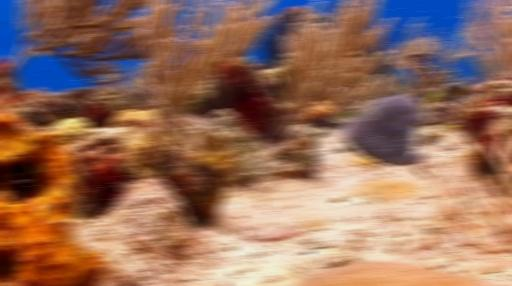Fish: (449, 81, 480, 96), (329, 109, 362, 122), (421, 91, 442, 108), (276, 73, 287, 92), (440, 123, 459, 130), (276, 75, 283, 86)
